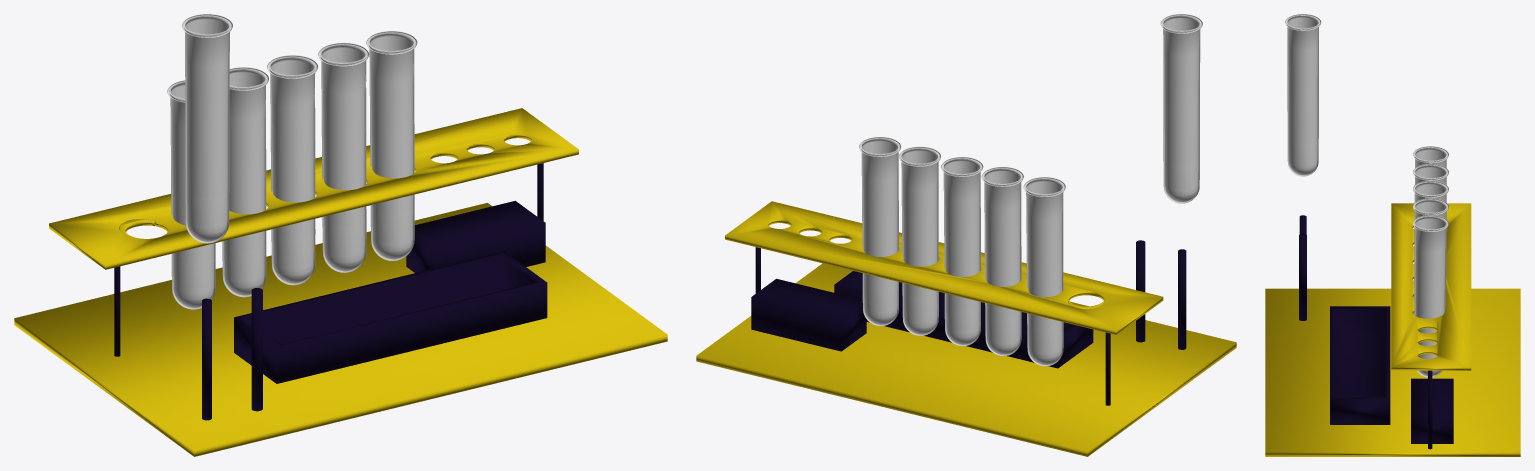
File: testTubes2_Nov27.glb
3 renders of one model, left to right at view 1: azimuth 30°, elevation 25°; view 2: azimuth 150°, elevation 25°; view 3: azimuth 270°, elevation 25°, orthographic. The views are drawn at different scales.
Visible parts, largest first — view 1: Cube.001, tube0, tube4, tube3, tube5, tube2, tube1, Cylinder.003, Cylinder.001; view 2: Cube.001, tube0, tube1, tube2, tube4, tube5, tube3, Cylinder.001, Cylinder.003; view 3: Cube.001, tube0, tube5, Cylinder.003, tube3, tube1, tube4, tube2, Cylinder.002.
Boxes of the visible parts, x1,y1,x2,y2 form: Cube.001: (14, 108, 667, 456); tube0: (182, 14, 232, 243); tube4: (318, 42, 369, 272); tube3: (267, 55, 318, 285); tube5: (366, 31, 417, 260); tube2: (222, 67, 268, 297); tube1: (167, 80, 215, 309); Cylinder.003: (251, 288, 262, 411); Cylinder.001: (202, 298, 211, 420); Cube.001: (696, 201, 1236, 456); tube0: (1160, 14, 1202, 203); tube1: (1023, 177, 1065, 366); tube2: (981, 167, 1023, 356); tube4: (899, 146, 940, 335); tube5: (859, 137, 901, 326); tube3: (941, 157, 983, 346); Cylinder.001: (1178, 249, 1186, 349); Cylinder.003: (1136, 240, 1145, 342); Cube.001: (1265, 203, 1520, 456); tube0: (1285, 14, 1321, 176); tube5: (1413, 215, 1448, 377); Cylinder.003: (1299, 233, 1306, 320); tube3: (1413, 180, 1448, 314); tube1: (1413, 146, 1448, 280); tube4: (1413, 198, 1448, 294); tube2: (1413, 163, 1448, 297); Cylinder.002: (1428, 370, 1432, 449).
Size of the model in its own units: 0.7593 by 0.6187 by 0.5005.
